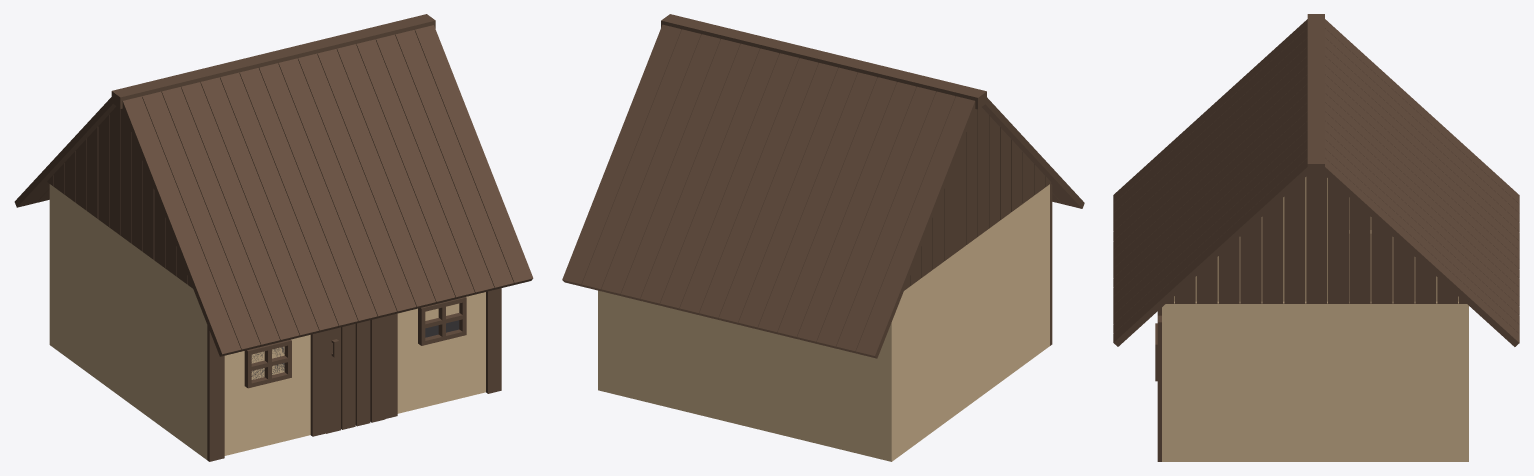
The model's file is interior_ud.fbx.
3 renders of one model, left to right at view 1: azimuth 30°, elevation 25°; view 2: azimuth 150°, elevation 25°; view 3: azimuth 270°, elevation 25°, orthographic. The views are drawn at different scales.
Visible parts, largest first — view 1: House, Door; view 2: House; view 3: House.
Part boxes in pixels (box(x1,y1,x2,y2)): House: box(14, 14, 533, 461); Door: box(326, 316, 385, 433); House: box(562, 14, 1084, 461); House: box(1113, 14, 1519, 461).
Size of the model in its own units: 1619 by 1528 by 1852.
